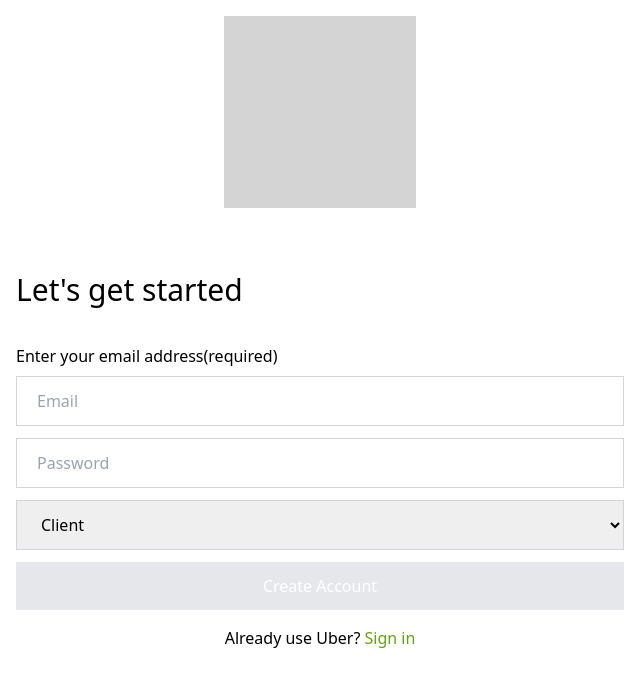
Test case: CreateAccount › should display password validation error
Type "123" into the password field with placeholder "Password" at (320, 463), box [16, 438, 624, 488]
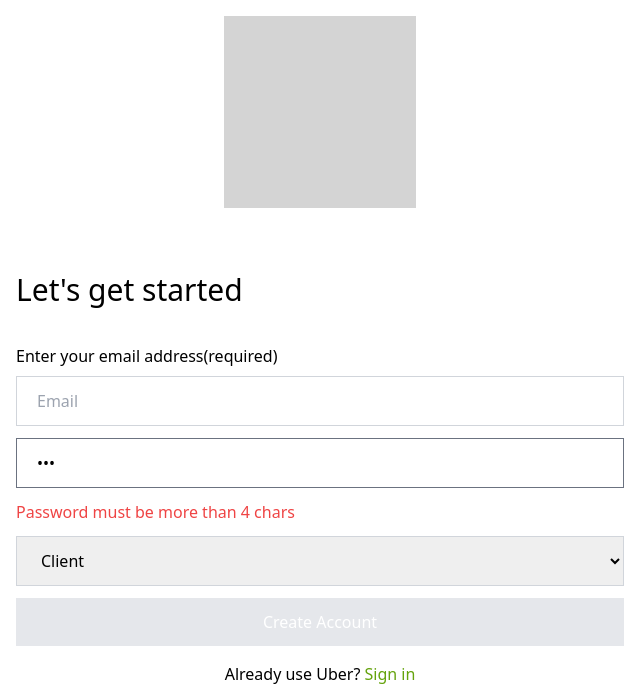
Result: the message reads "Password must be more than 4 chars" at [16, 501, 295, 523]
Clear the password field with placeholder "Password" at (320, 463), box [16, 438, 624, 488]
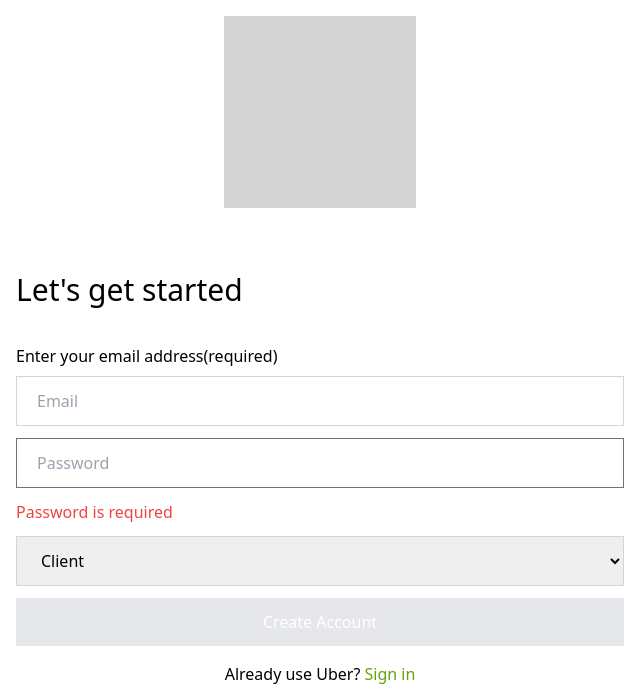
Result: the message reads "Password is required" at [16, 501, 173, 523]
